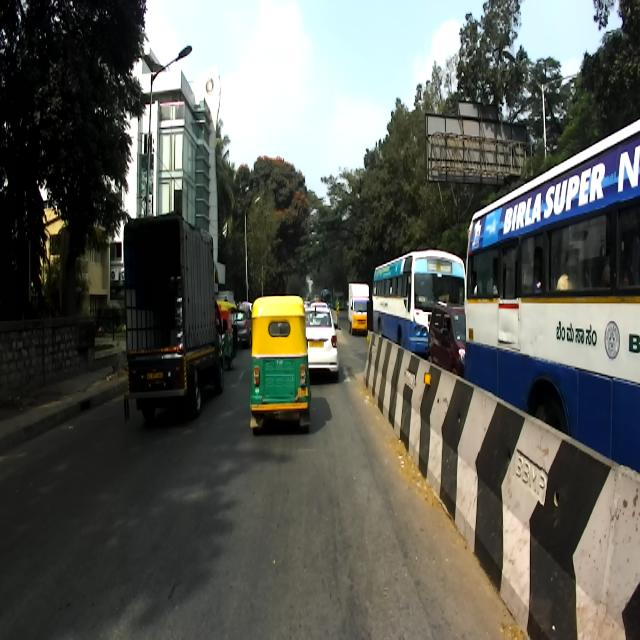auto ahead at: (244, 296, 310, 438)
car ahead at: (122, 208, 226, 424)
